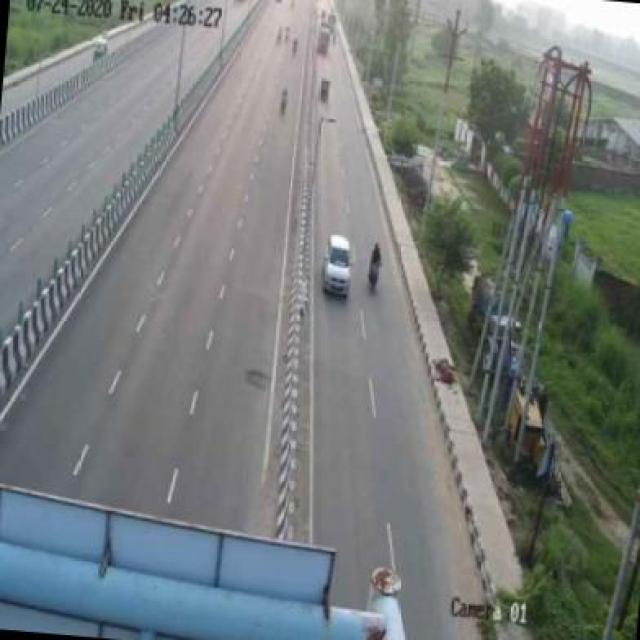car: (315, 230, 359, 307)
